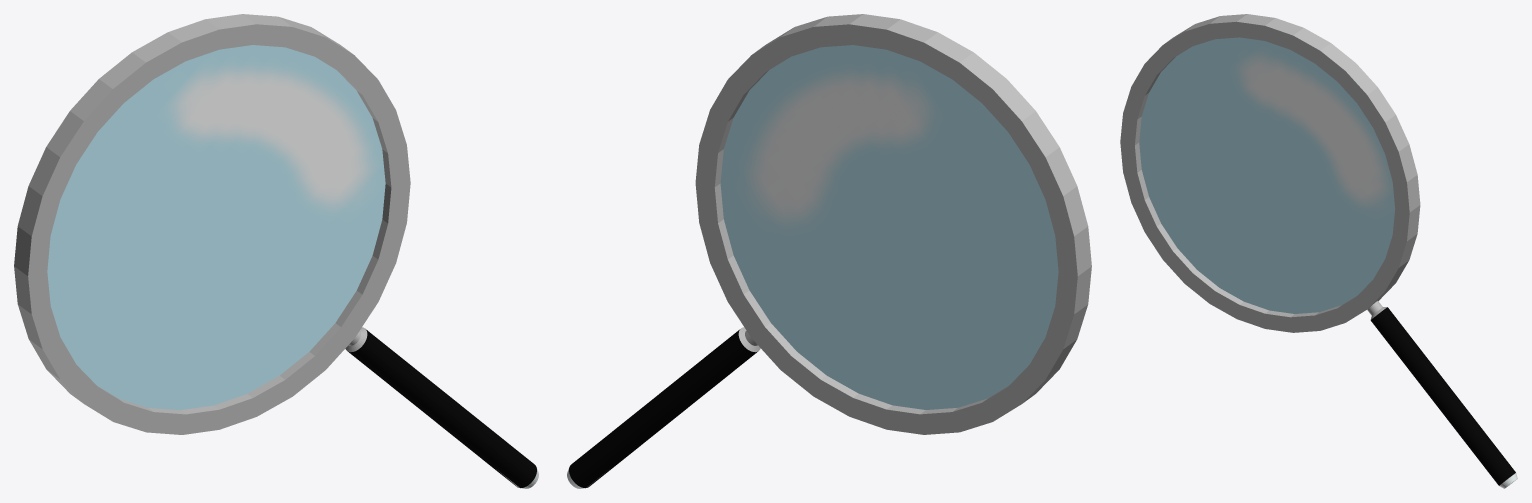
File: magnifying_glass.glb
The picture shows the model from 3 angles, left to right: view 1: azimuth 30°, elevation 25°; view 2: azimuth 150°, elevation 25°; view 3: azimuth 330°, elevation 25°; orthographic projection. The views are drawn at different scales.
Parts seen in each view (by area): view 1: Cylinder; view 2: Cylinder; view 3: Cylinder.
Boxes of the visible parts, <box> form: Cylinder: <box>14,14,538,488</box>; Cylinder: <box>567,14,1091,488</box>; Cylinder: <box>1120,14,1517,488</box>.
Bounding box in the file's own units: 0.6314 × 0.631 × 0.0305.
Materials: 1 (1 with a texture image).
